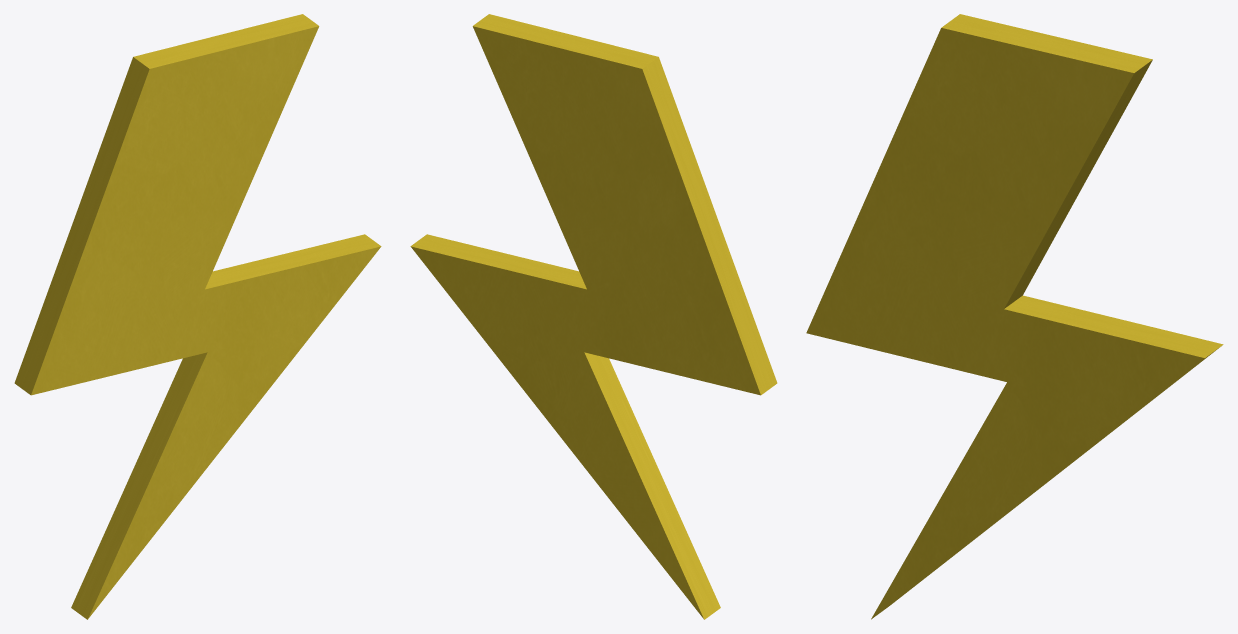
File: LightningBolt.fbx
3 views of the same model, side by side, from view 1: azimuth 30°, elevation 25°; view 2: azimuth 150°, elevation 25°; view 3: azimuth 330°, elevation 25° (orthographic). The views are drawn at different scales.
Parts seen in each view (by area): view 1: Line001; view 2: Line001; view 3: Line001.
Part boxes in pixels (x1,y1,x2,y2): Line001: (14, 14, 381, 619); Line001: (410, 14, 777, 619); Line001: (806, 14, 1223, 619).
Bounding box in the file's own units: 61.17 × 89.58 × 5.
Materials: 1 (1 with a texture image).
